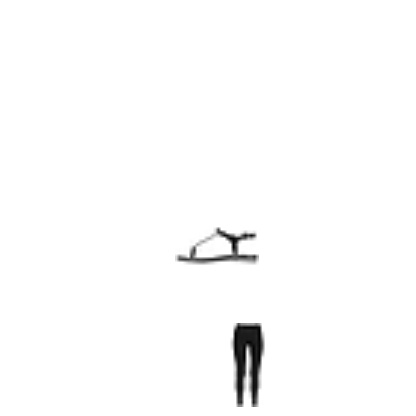Sandal: (175, 204, 259, 288)
Trouser: (204, 323, 288, 407)
